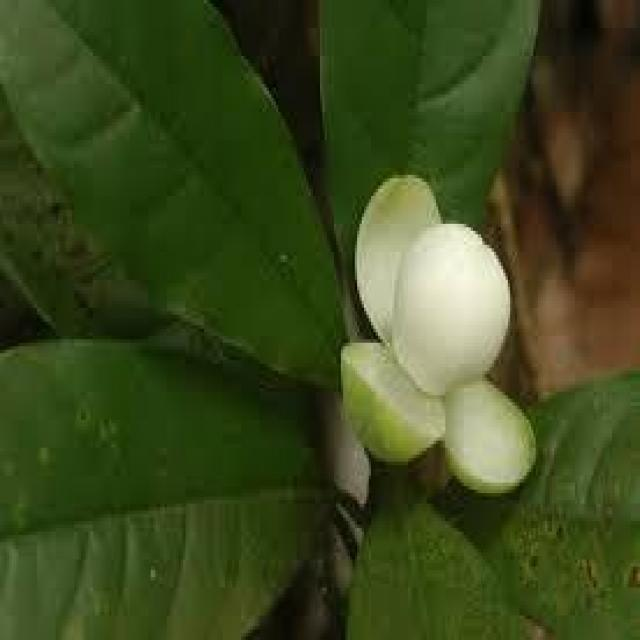organic waste: (338, 170, 542, 519)
